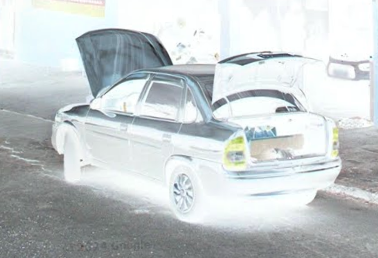car: (50, 28, 342, 221)
